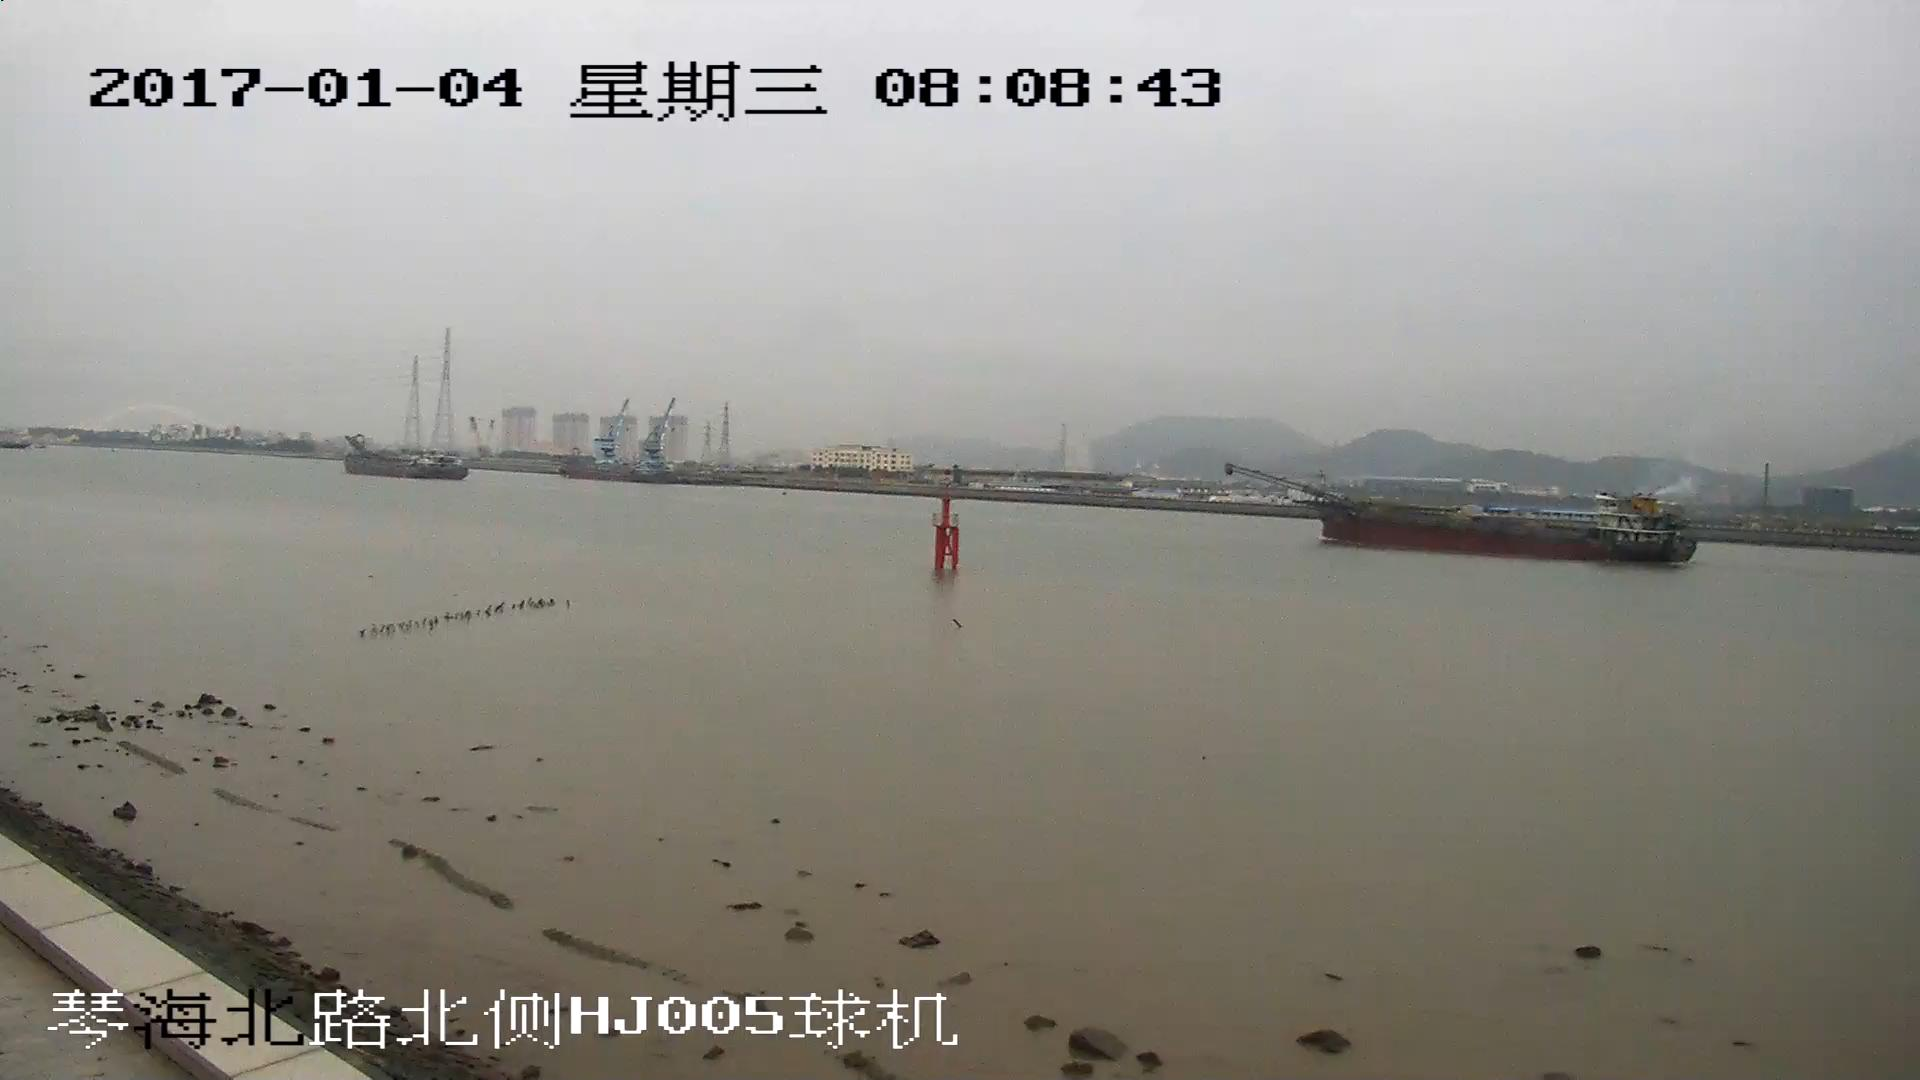bulk cargo carrier: (1229, 465, 1691, 563), (346, 440, 466, 480)
